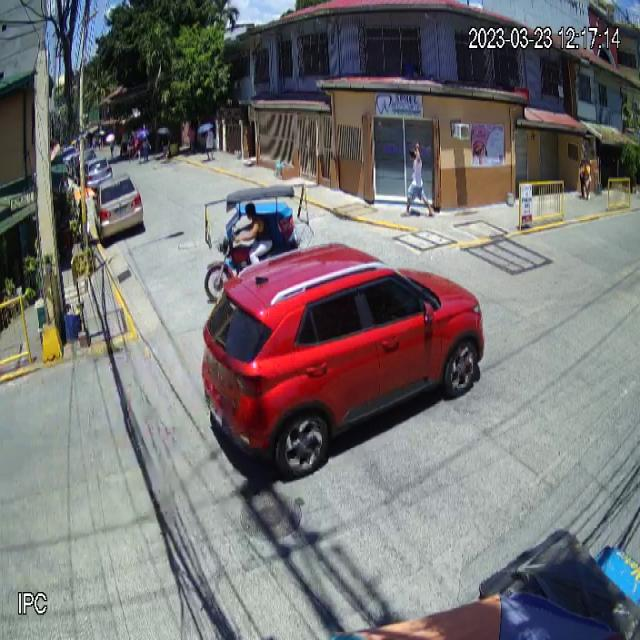Car: (200, 240, 485, 482), (93, 173, 144, 241)
